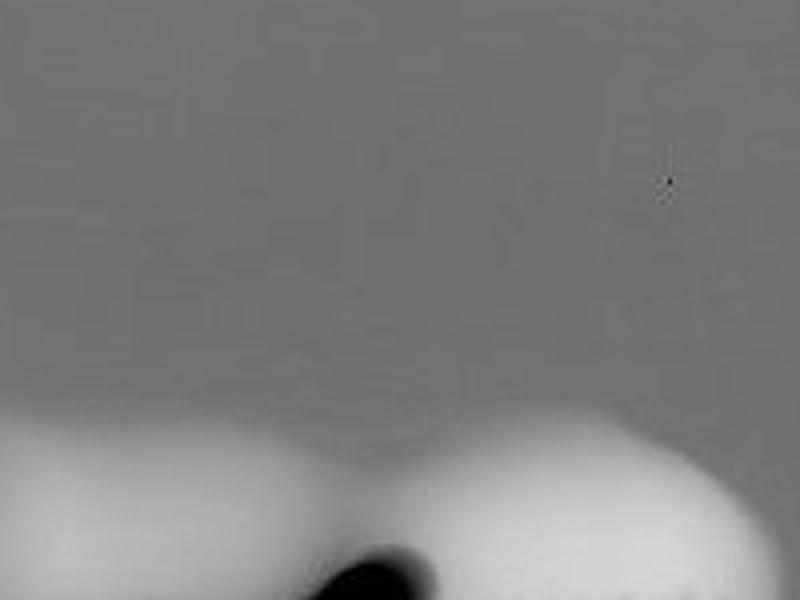defect: (307, 548, 434, 600), (664, 173, 678, 194)
